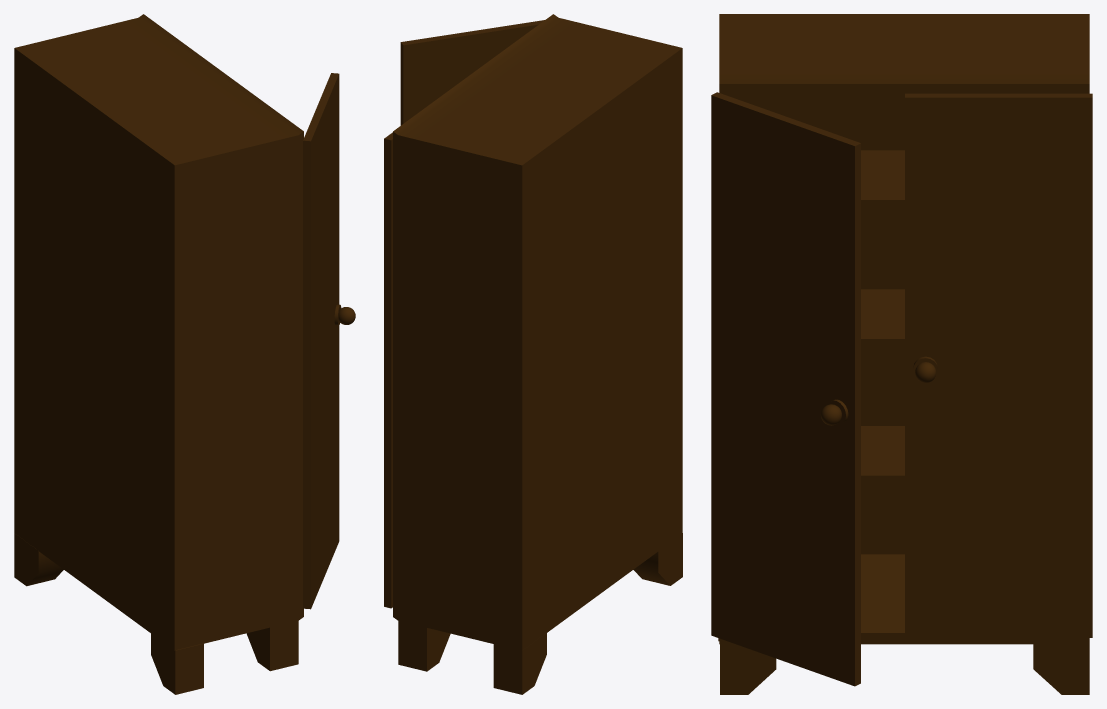
Rendered from cabinet.fbx.
The picture shows the model from 3 angles, left to right: view 1: azimuth 30°, elevation 25°; view 2: azimuth 150°, elevation 25°; view 3: azimuth 270°, elevation 25°; orthographic projection. The views are drawn at different scales.
Visible parts, largest first — view 1: polySurface5; view 2: polySurface5; view 3: polySurface5.
Boxes of the visible parts, x1=… form: polySurface5: x1=14, y1=14, x2=355, y2=694; polySurface5: x1=384, y1=14, x2=682, y2=694; polySurface5: x1=711, y1=14, x2=1092, y2=694.
Bounding box in the file's own units: 2.33 × 5.19 × 2.93.
